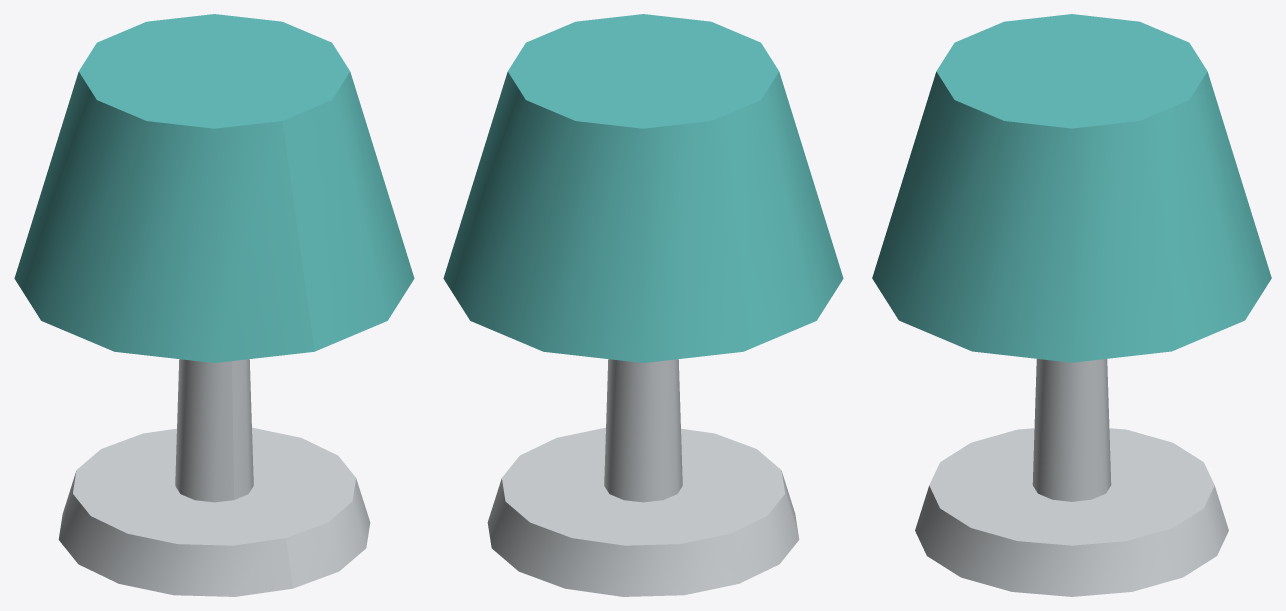
The model's file is table-lamp.glb.
3 renders of one model, left to right at view 1: azimuth 30°, elevation 25°; view 2: azimuth 150°, elevation 25°; view 3: azimuth 270°, elevation 25°, orthographic.
Visible parts, largest first — view 1: shade, base, stem; view 2: shade, base, stem; view 3: shade, base, stem.
Part boxes in pixels (bbox=[...]): shade: bbox=[14, 14, 414, 362]; base: bbox=[58, 427, 370, 596]; stem: bbox=[175, 359, 253, 502]; shade: bbox=[443, 14, 843, 362]; base: bbox=[487, 427, 799, 596]; stem: bbox=[604, 359, 682, 502]; shade: bbox=[872, 14, 1271, 362]; base: bbox=[915, 428, 1228, 596]; stem: bbox=[1032, 359, 1111, 501].
Size of the model in its own units: 0.56 by 0.71 by 0.56.
